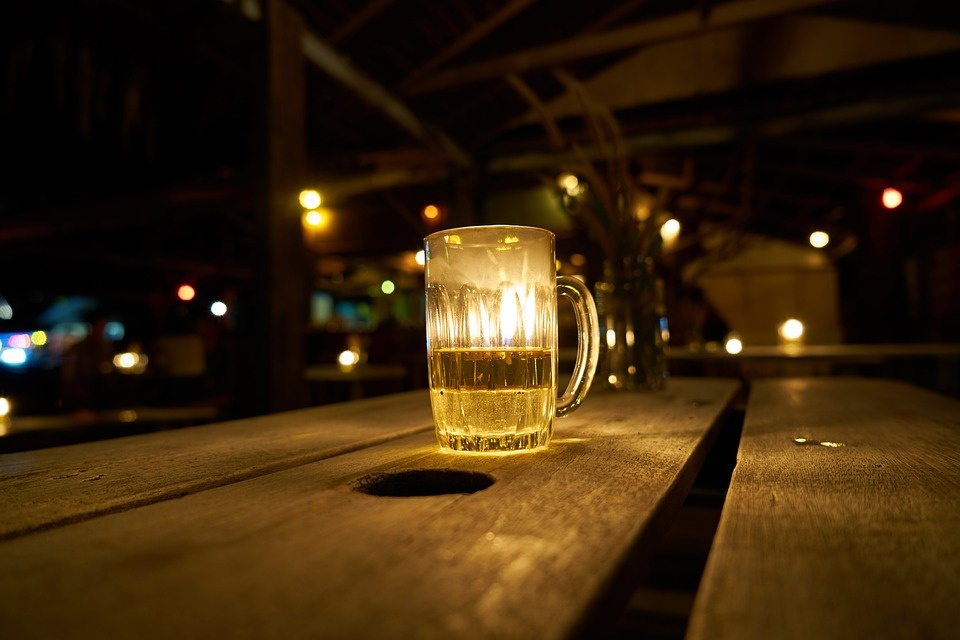glassBeer: (425, 218, 561, 454)
